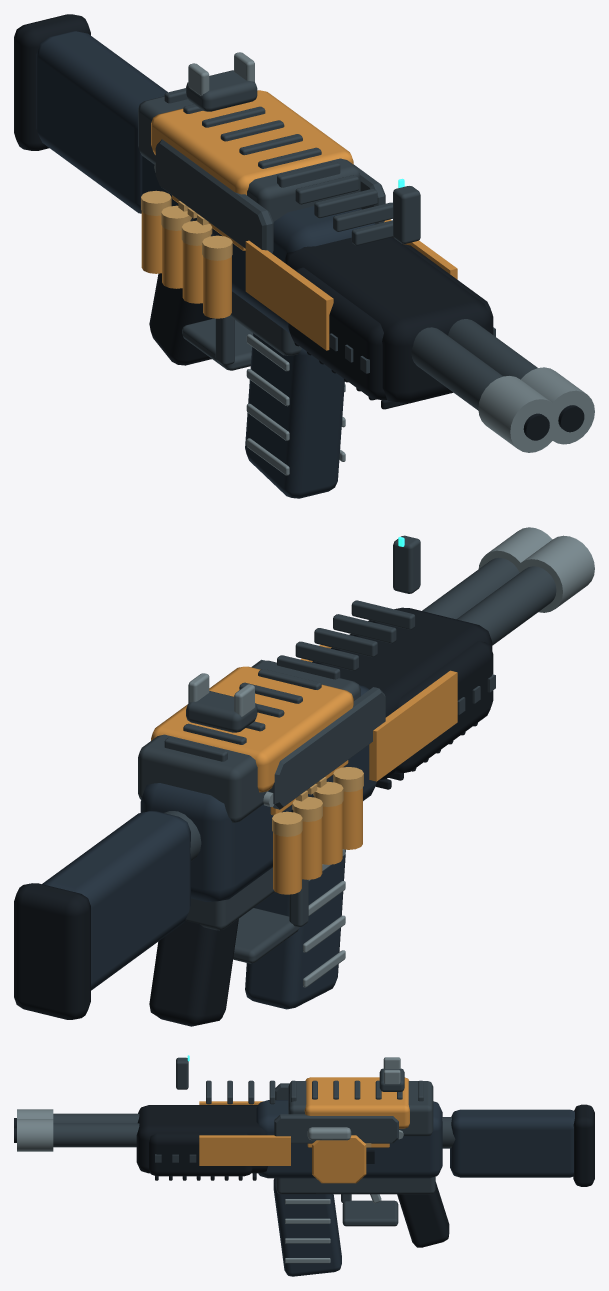
File: s12-scattergun.glb
3 views of the same model, one above another, from view 1: azimuth 30°, elevation 25°; view 2: azimuth 150°, elevation 25°; view 3: azimuth 270°, elevation 25° (orthographic). The views are drawn at different scales.
Parts seen in each view (by area): view 1: receiver / Gunmetal, receiver / Safety ochre, foregrip / Grip rubber, receiver / Graphite polymer, magazine / Graphite polymer, receiver / Grip rubber, receiver / Brushed titanium, receiver / Brass contacts, magazine / Brushed titanium, rear_sight / Gunmetal, rear_sight / Brushed titanium; view 2: receiver / Gunmetal, receiver / Graphite polymer, receiver / Safety ochre, receiver / Grip rubber, foregrip / Grip rubber, magazine / Graphite polymer, receiver / Brushed titanium, receiver / Brass contacts, rear_sight / Gunmetal, magazine / Brushed titanium, rear_sight / Brushed titanium; view 3: receiver / Gunmetal, receiver / Graphite polymer, receiver / Safety ochre, foregrip / Grip rubber, receiver / Grip rubber, magazine / Graphite polymer, receiver / Brushed titanium, magazine / Brushed titanium, charging_handle / Brushed titanium, rear_sight / Brushed titanium, rear_sight / Gunmetal.
Part boxes in pixels (x1,y1,x2,y2): receiver / Gunmetal: (138,88,537,410); receiver / Safety ochre: (141,90,457,350); foregrip / Grip rubber: (284,237,493,409); receiver / Graphite polymer: (36,31,375,333); magazine / Graphite polymer: (245,333,344,498); receiver / Grip rubber: (14,14,584,440); receiver / Brushed titanium: (154,163,594,452); receiver / Brass contacts: (141,190,232,260); magazine / Brushed titanium: (246,334,345,475); rear_sight / Gunmetal: (186,70,257,111); rear_sight / Brushed titanium: (188,52,254,95); receiver / Gunmetal: (138,535,556,963); receiver / Graphite polymer: (42,685,376,990); receiver / Safety ochre: (151,644,457,894); receiver / Grip rubber: (14,794,314,1026); foregrip / Grip rubber: (312,607,493,789); magazine / Graphite polymer: (245,850,345,1009); receiver / Brushed titanium: (263,527,594,806); receiver / Brass contacts: (272,767,363,836); rear_sight / Gunmetal: (186,691,257,732); magazine / Brushed titanium: (303,849,345,987); rear_sight / Brushed titanium: (188,673,254,716); receiver / Gunmetal: (53,1057,455,1226); receiver / Graphite polymer: (256,1100,574,1178); receiver / Safety ochre: (199,1077,409,1183); foregrip / Grip rubber: (136,1105,267,1180); receiver / Grip rubber: (14,1104,594,1247); magazine / Graphite polymer: (273,1178,341,1276); receiver / Brushed titanium: (17,1109,403,1203); magazine / Brushed titanium: (285,1199,330,1263); charging_handle / Brushed titanium: (307,1127,351,1140); rear_sight / Brushed titanium: (383,1057,400,1084); rear_sight / Gunmetal: (379,1068,404,1091).
Size of the model in its own units: 0.206 by 0.4955 by 1.2.
